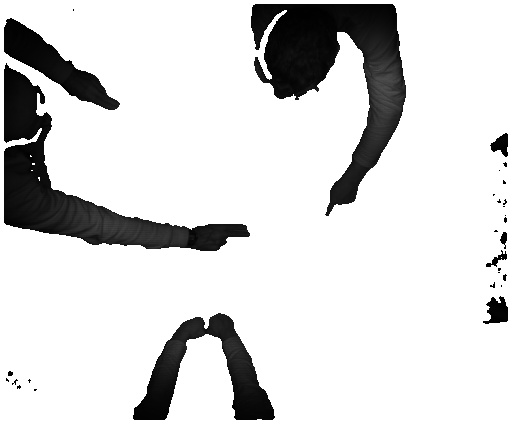fist: (176, 312, 208, 343), (208, 312, 242, 340)
hand: (320, 170, 367, 215), (70, 74, 119, 111), (197, 224, 255, 255)
